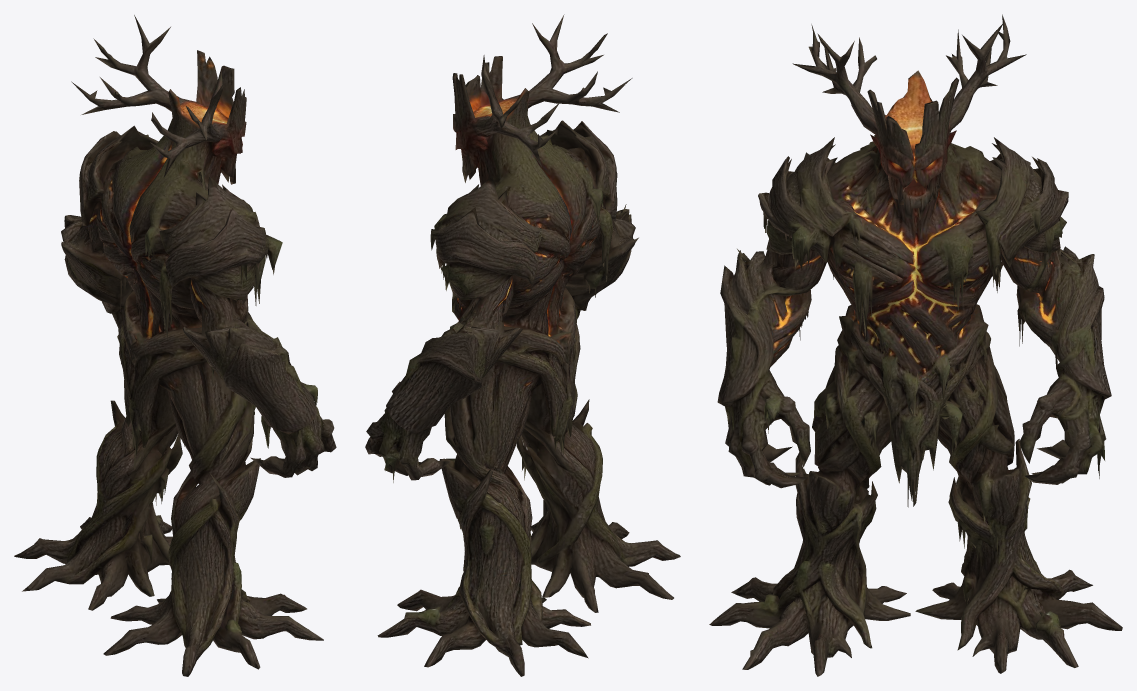
Rendered from treant.glb.
The picture shows the model from 3 angles, left to right: view 1: azimuth 30°, elevation 25°; view 2: azimuth 150°, elevation 25°; view 3: azimuth 270°, elevation 25°; orthographic projection. The views are drawn at different scales.
Parts seen in each view (by area): view 1: tripo_node_c0e2f300-09fa-4871-be2e-7be4611dc331; view 2: tripo_node_c0e2f300-09fa-4871-be2e-7be4611dc331; view 3: tripo_node_c0e2f300-09fa-4871-be2e-7be4611dc331.
Boxes of the visible parts, x1,y1,x2,y2 form: tripo_node_c0e2f300-09fa-4871-be2e-7be4611dc331: [14, 15, 336, 676]; tripo_node_c0e2f300-09fa-4871-be2e-7be4611dc331: [365, 14, 680, 676]; tripo_node_c0e2f300-09fa-4871-be2e-7be4611dc331: [709, 14, 1122, 676].
Size of the model in its own units: 0.3714 by 0.9842 by 0.6041.
Materials: 1 (1 with a texture image).
